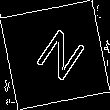N_SW: (24, 23, 86, 87)
